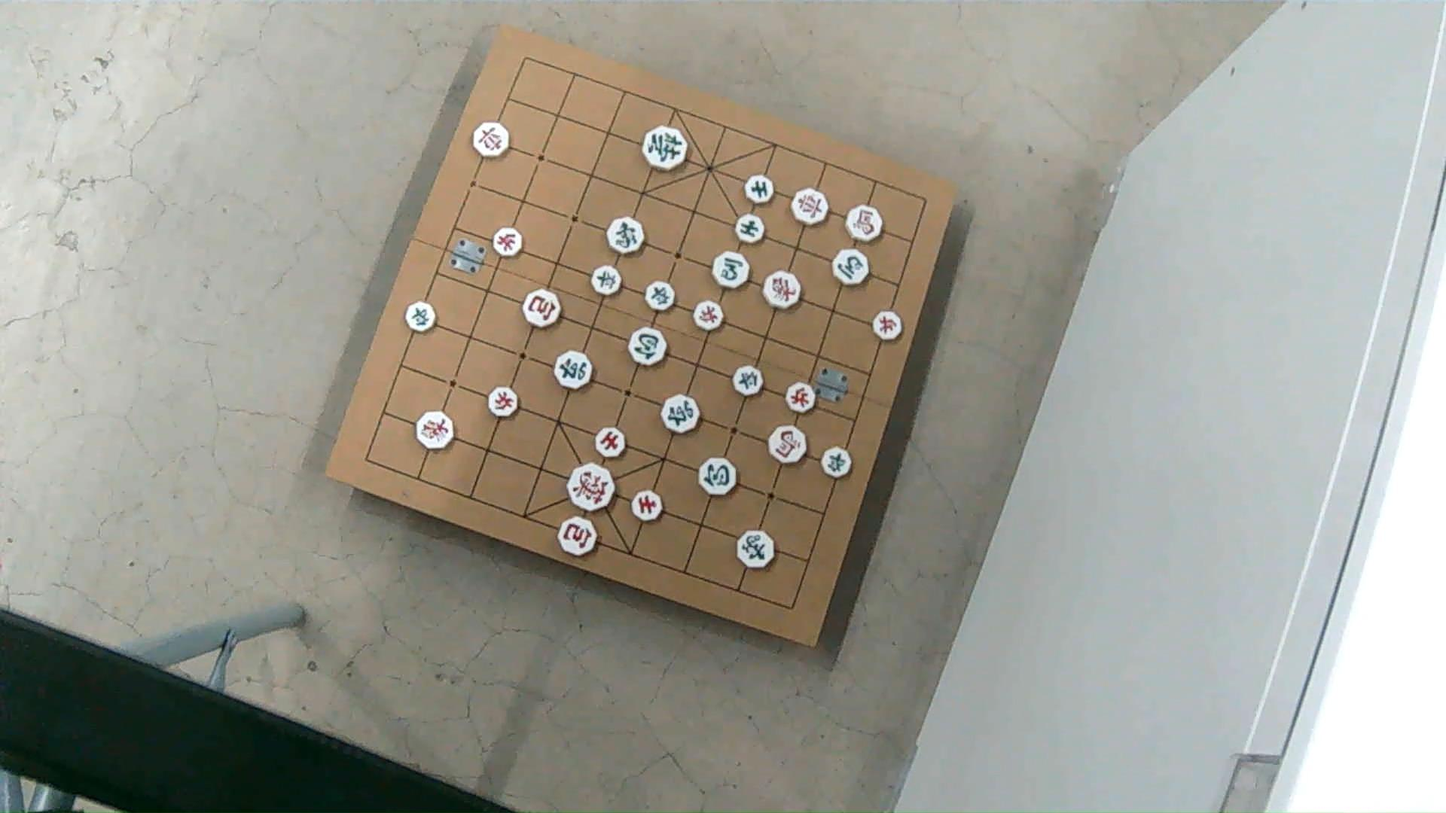cha_green: (554, 352, 592, 390), (660, 395, 697, 434)
cha_red: (474, 123, 511, 159), (791, 189, 827, 225)
jol_green: (820, 446, 851, 477), (732, 365, 763, 396), (404, 303, 435, 333), (645, 283, 674, 312), (592, 266, 621, 295)
jol_red: (487, 386, 517, 418), (786, 382, 816, 413), (492, 227, 521, 256), (695, 301, 724, 330), (873, 312, 903, 340)
ma_green: (712, 251, 749, 288), (833, 248, 869, 284)
ma_red: (770, 427, 807, 465), (845, 207, 882, 242)
po_green: (628, 328, 667, 367), (700, 456, 738, 495)
po_red: (556, 516, 596, 556), (523, 290, 562, 328)
sa_green: (737, 215, 766, 245), (746, 175, 775, 204)
sa_red: (596, 428, 628, 460), (633, 490, 663, 520)
sang_green: (738, 530, 776, 567), (609, 216, 645, 254)
sang_red: (763, 272, 801, 308), (415, 413, 453, 449)
wang_green: (642, 126, 686, 171)
wang_red: (566, 464, 613, 511)
